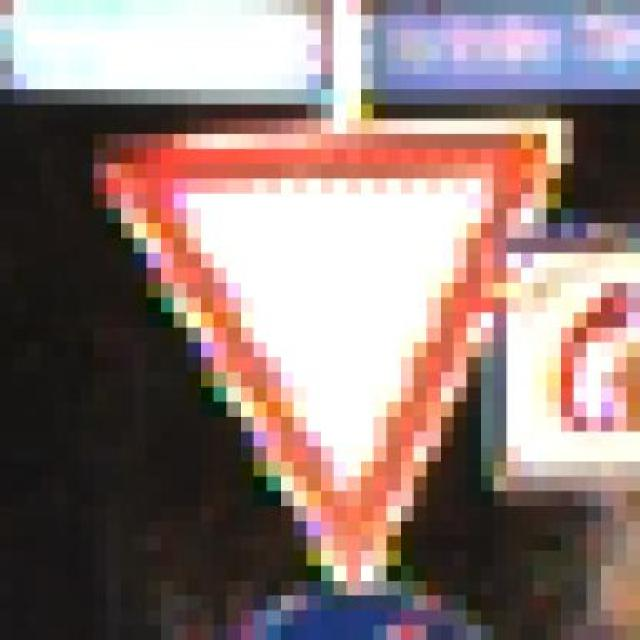Give Way: (67, 96, 627, 602)
